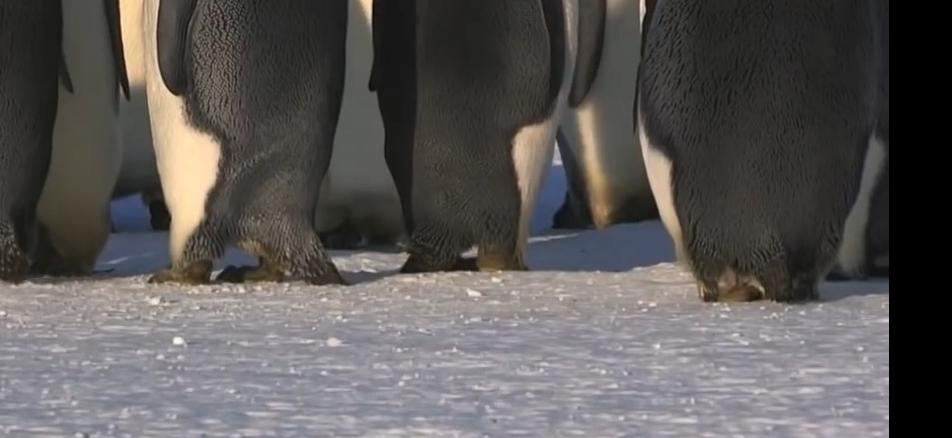Emperor Penguin: (628, 0, 866, 314), (362, 0, 572, 264), (146, 0, 356, 263), (570, 0, 696, 248), (66, 0, 186, 208), (0, 0, 85, 280)
